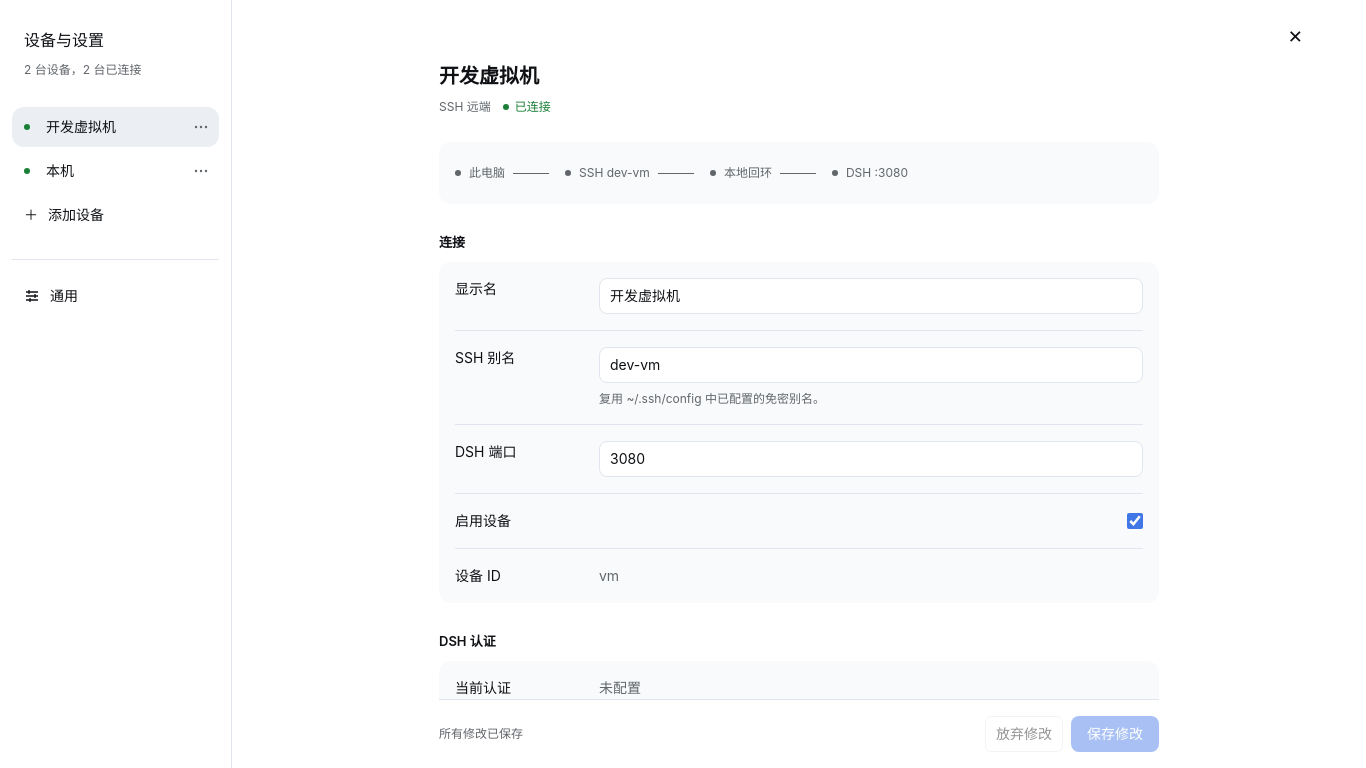
sidebar more menu › opens without selecting, navigates by keyboard, and Escape restores focus
Replace the text in the field labelled "显示名" with "草稿" at (871, 296), box 599,278 -> 1143,314
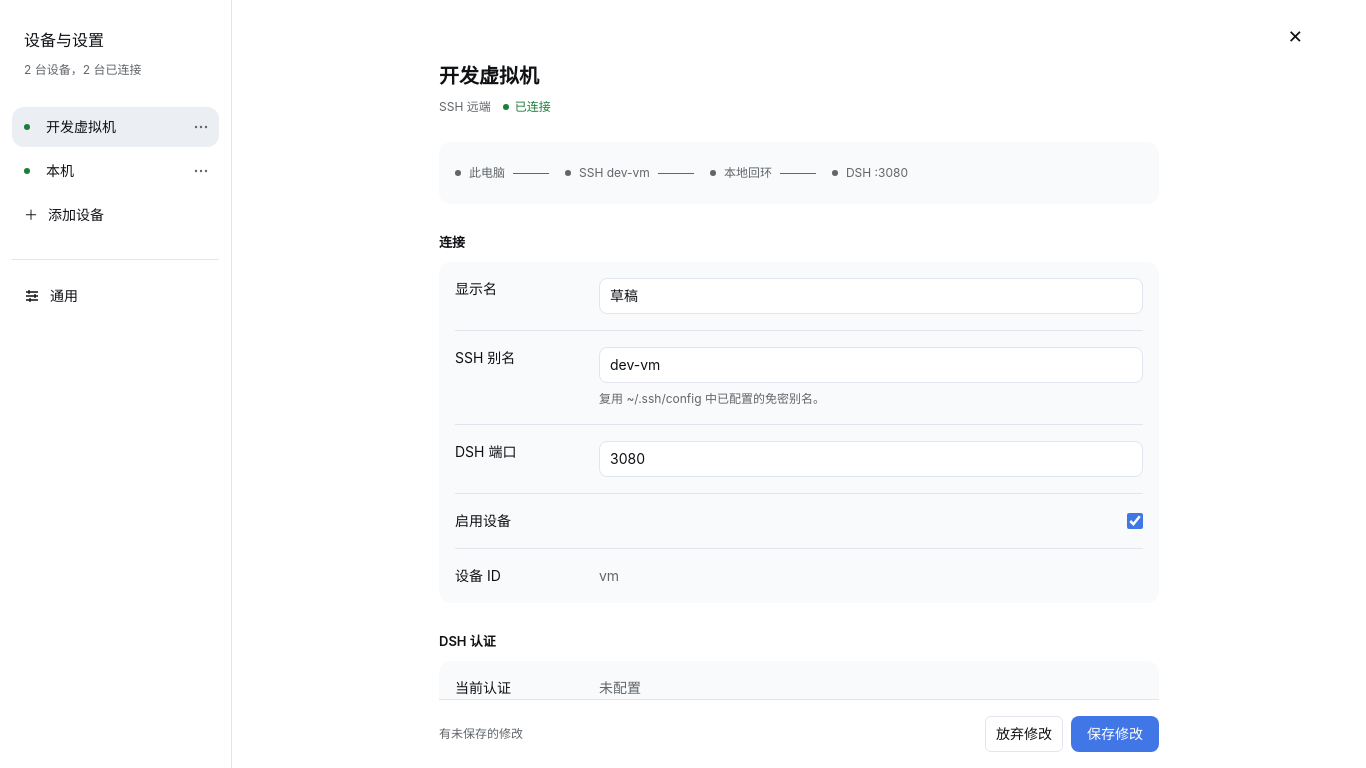
Click the button named "本机 更多操作" at (201, 171), box 187,154 -> 215,188
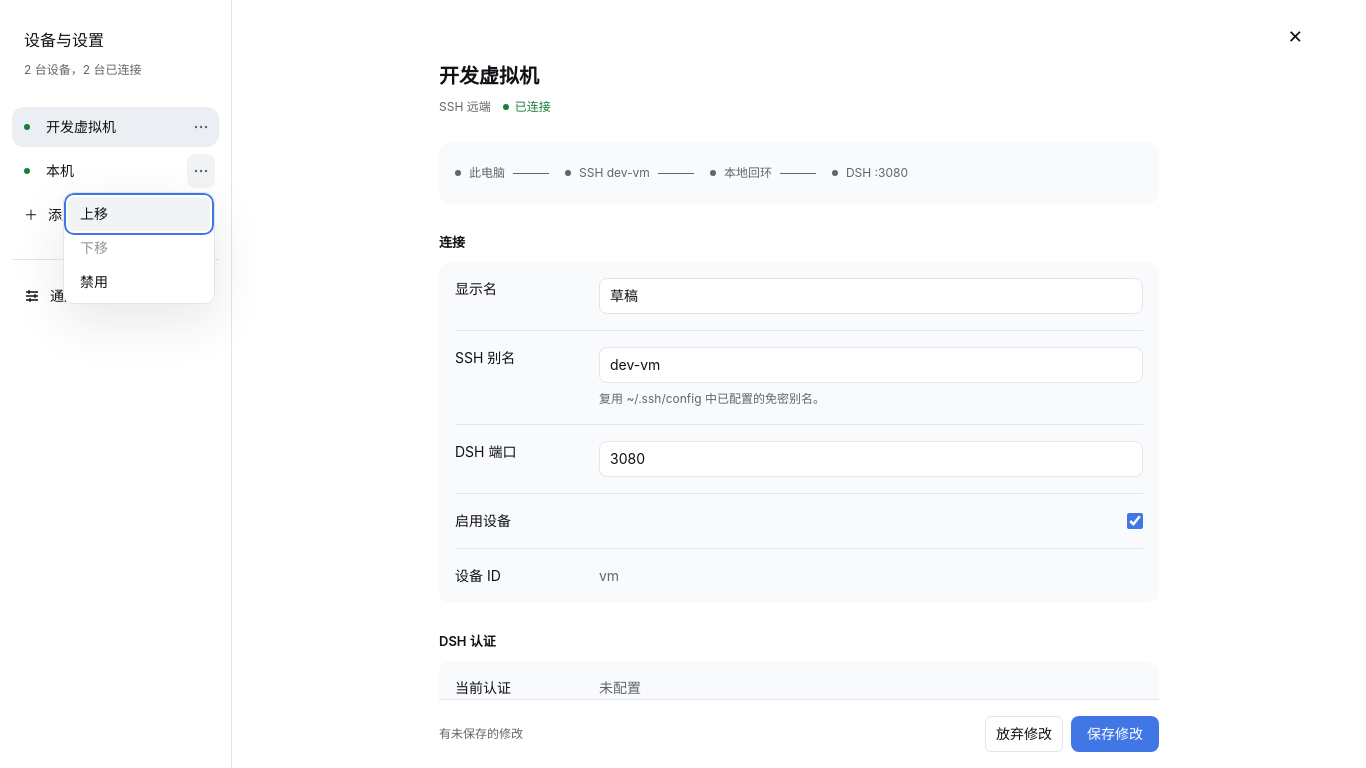
Press ArrowDown in the menu item "上移", box 68,197 -> 210,231
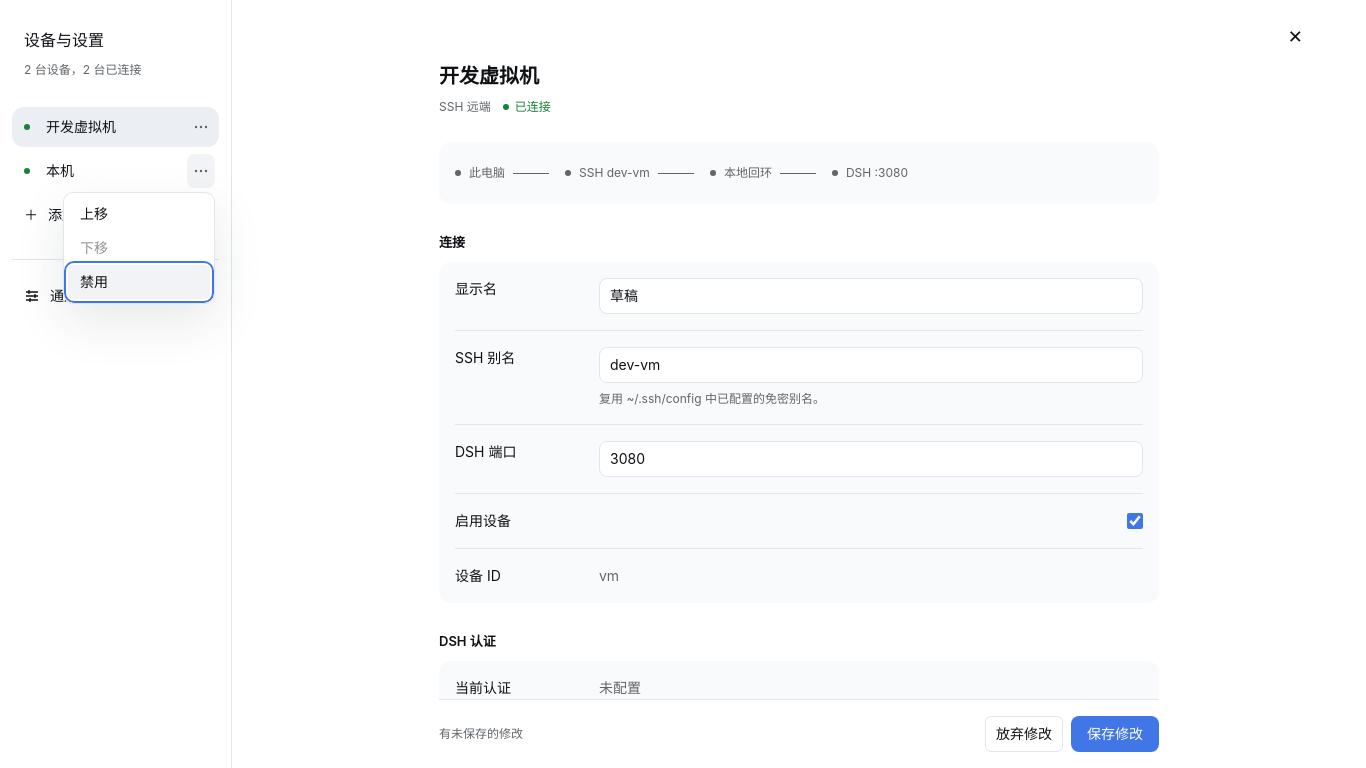
Press Escape in the menu item "禁用", box 68,265 -> 210,299
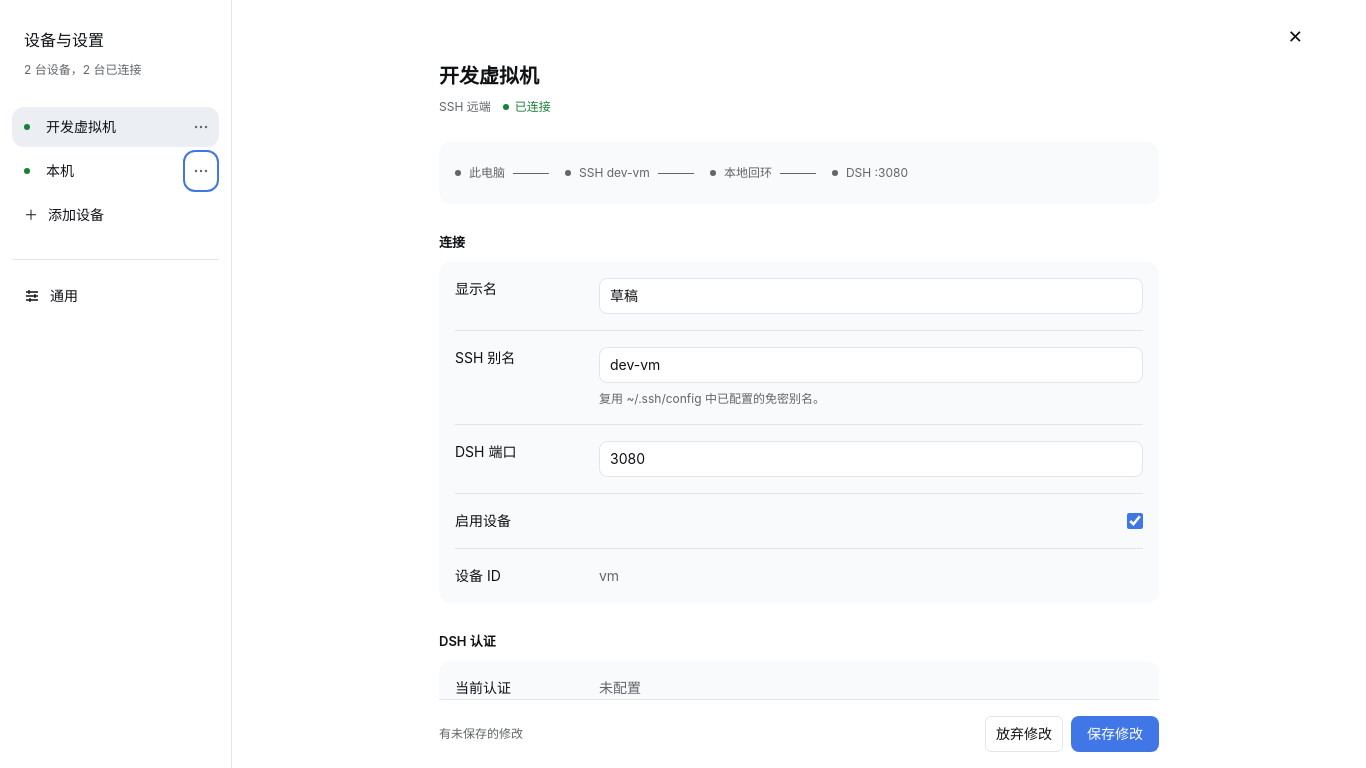
Expected: the menu is gone
